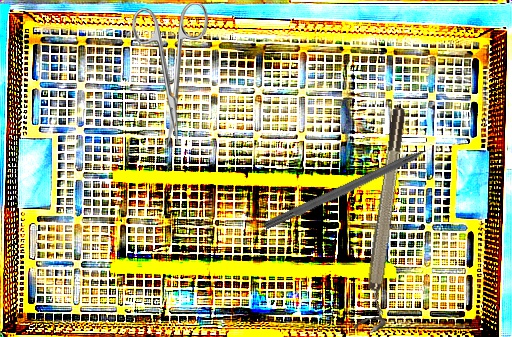Fixation Ring: (353, 105, 420, 336)
Hook Surgical: (262, 137, 449, 233)
Iris Scissors: (132, 3, 208, 145)
